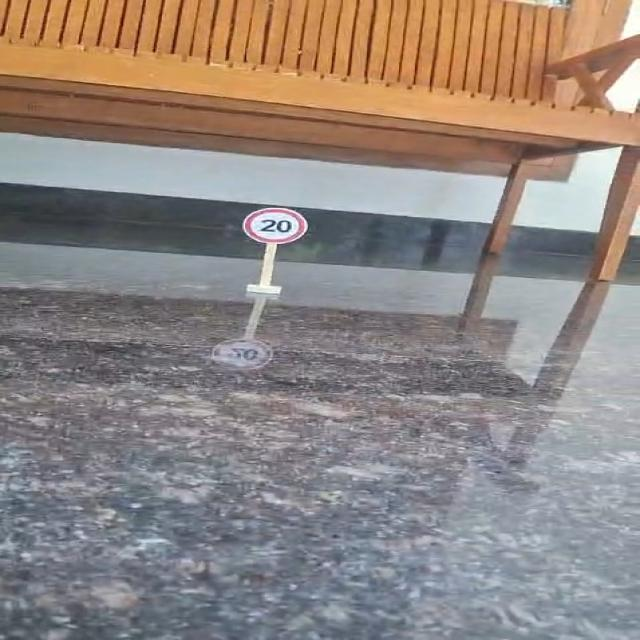Speed20: (236, 202, 314, 248)
